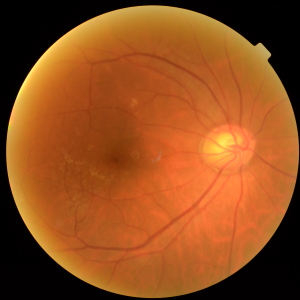retina_disease: (78, 88, 275, 208)
